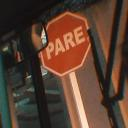Pare: (38, 9, 95, 79)
